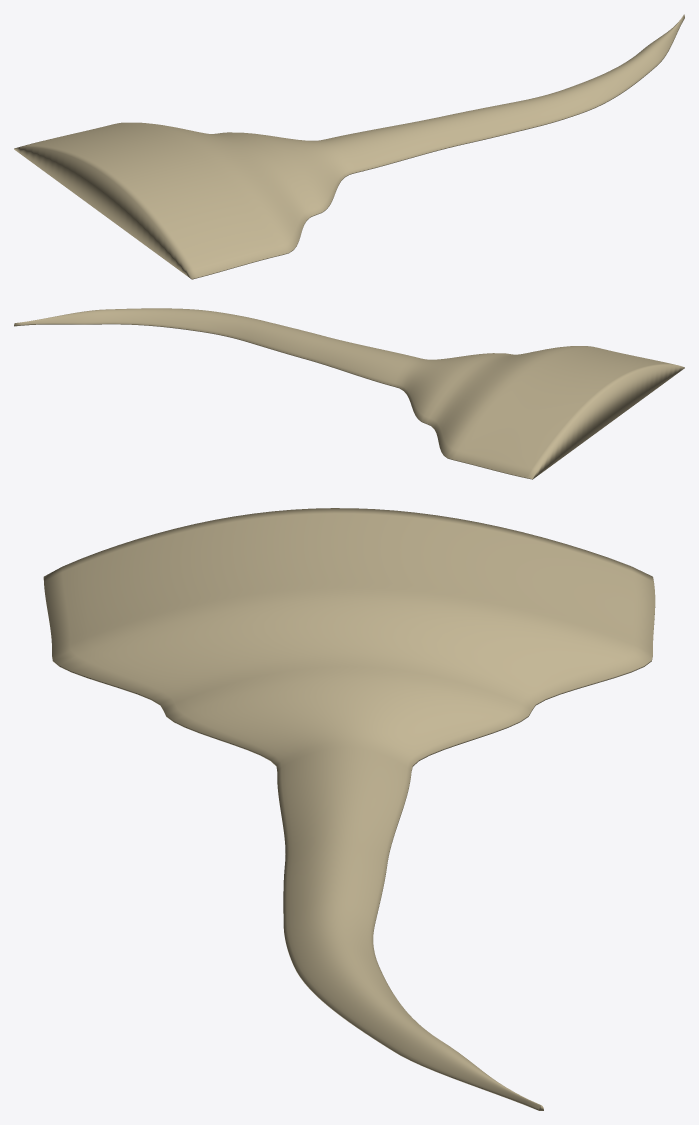
Rendered from sand-spit.glb.
3 views of the same model, one above another, from view 1: azimuth 30°, elevation 25°; view 2: azimuth 150°, elevation 25°; view 3: azimuth 270°, elevation 25° (orthographic). The views are drawn at different scales.
Visible parts, largest first — view 1: twelve-metre shore-connected root and free-ended curved sand; view 2: twelve-metre shore-connected root and free-ended curved sand; view 3: twelve-metre shore-connected root and free-ended curved sand.
Part boxes in pixels (bbox=[...]): twelve-metre shore-connected root and free-ended curved sand: bbox=[14, 14, 684, 279]; twelve-metre shore-connected root and free-ended curved sand: bbox=[14, 308, 684, 479]; twelve-metre shore-connected root and free-ended curved sand: bbox=[43, 508, 655, 1110].
Size of the model in its own units: 12 by 0.7355 by 5.82.
